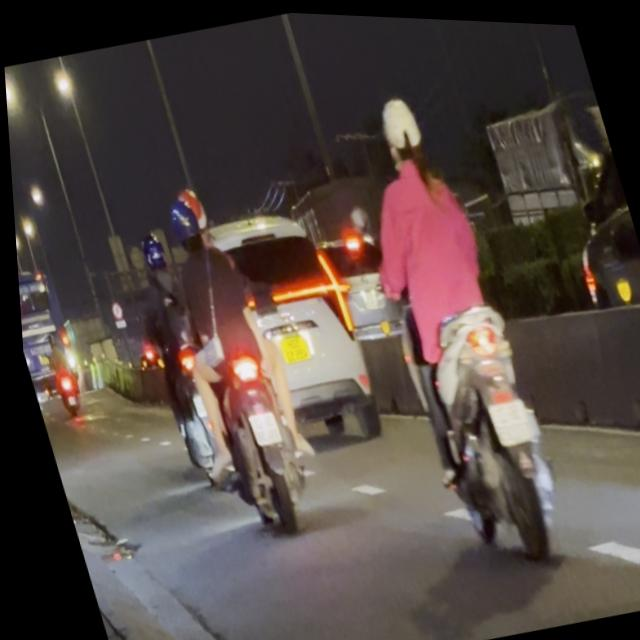helmet: (369, 86, 430, 171), (159, 187, 206, 253)
licenseplate: (322, 74, 578, 575), (139, 173, 324, 540)
nohelmet: (480, 389, 531, 443), (240, 405, 276, 443)
